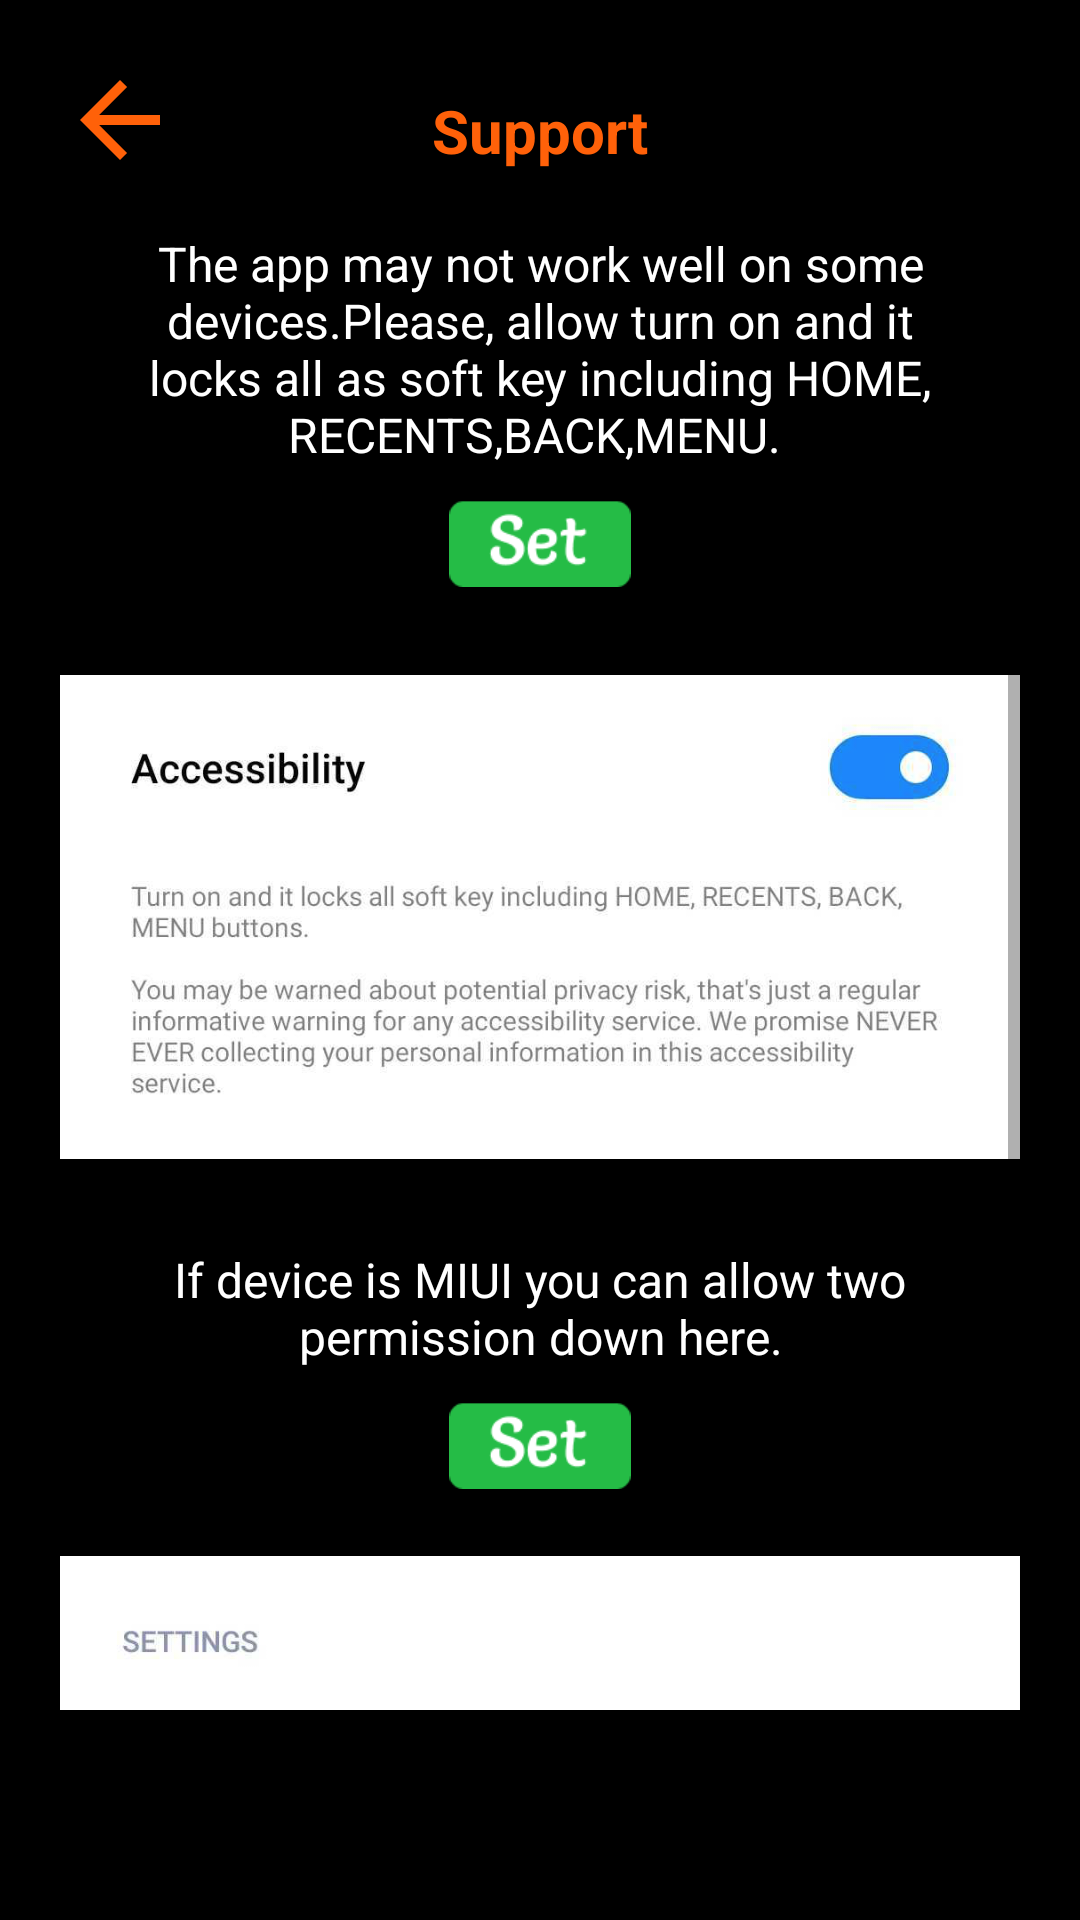

Named icons in this screenshot (1080 x 1920) and their centers, point (x, y):
arrow back: point (120, 120)
